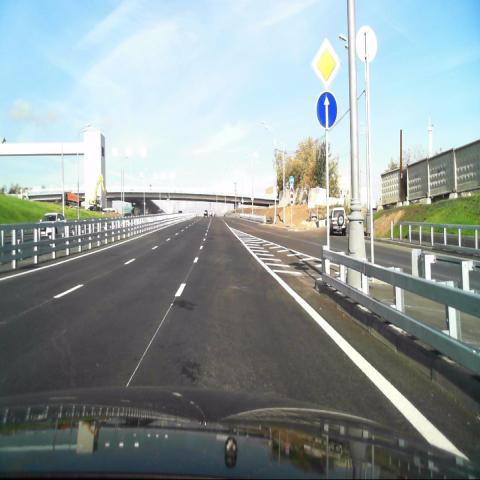2_1: (309, 35, 342, 88)
4_1_1: (315, 89, 339, 129)
